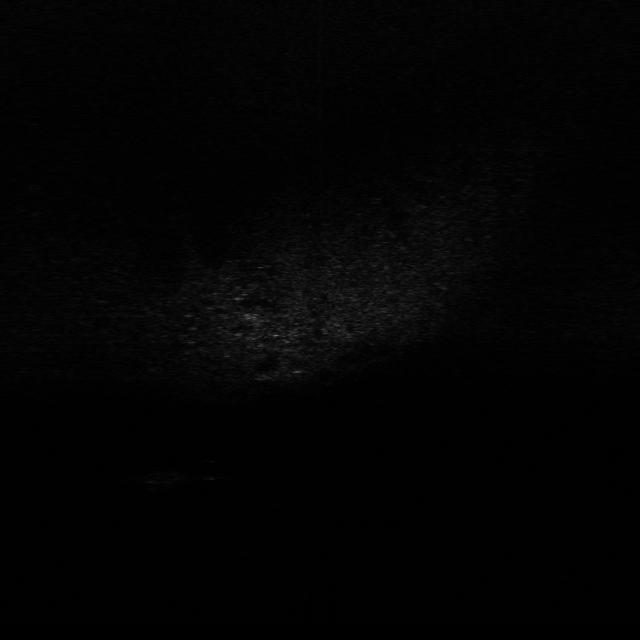ball: (197, 455, 231, 481)
circle cage: (129, 463, 193, 492)
